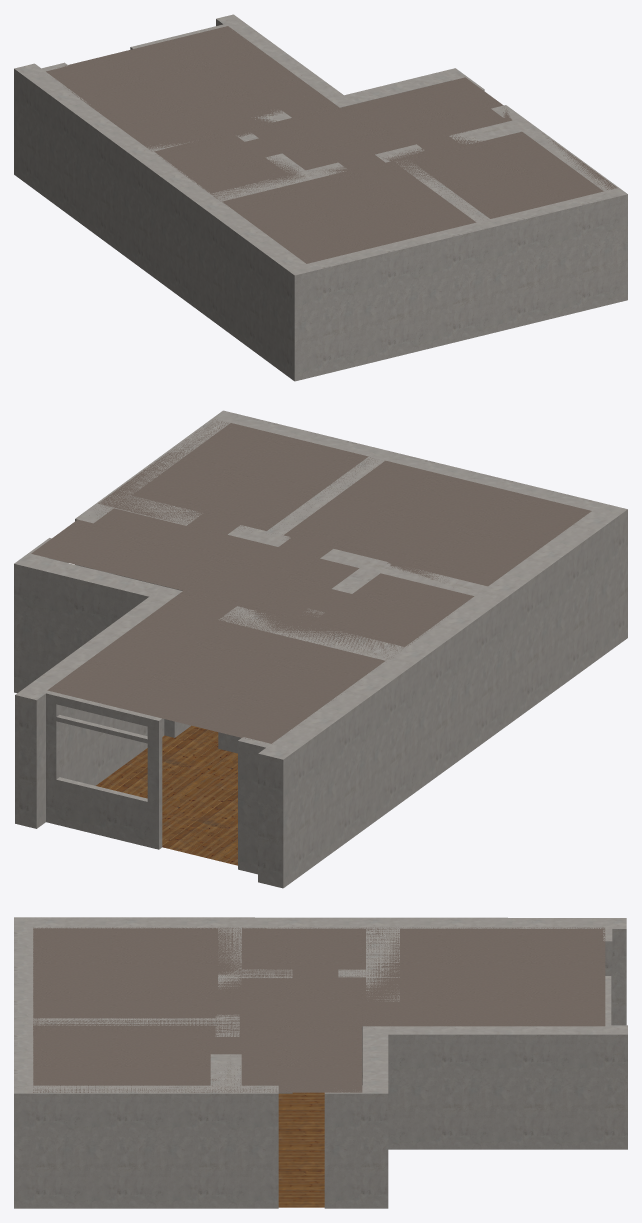
Rendered from apartment_shell.gltf.
3 views of the same model, one above another, from view 1: azimuth 30°, elevation 25°; view 2: azimuth 150°, elevation 25°; view 3: azimuth 270°, elevation 25° (orthographic). The views are drawn at different scales.
Visible parts, largest first — view 1: WestSideWalls, Ceiling, EastSideWalls; view 2: Ceiling, WestSideWalls, EastSideWalls, Floor; view 3: Ceiling, WestSideWalls, EastSideWalls, Floor.
Part boxes in pixels (<box>): WestSideWalls: <box>14,62,627,381</box>; Ceiling: <box>46,26,617,263</box>; EastSideWalls: <box>130,14,484,107</box>; Ceiling: <box>31,419,591,743</box>; WestSideWalls: <box>75,410,627,888</box>; EastSideWalls: <box>14,538,190,849</box>; Floor: <box>96,725,237,865</box>; Ceiling: <box>33,927,605,1092</box>; WestSideWalls: <box>14,917,626,1208</box>; EastSideWalls: <box>324,976,627,1208</box>; Floor: <box>278,1092,324,1207</box>.
Bounding box in the file's own units: 12.34 × 3.75 × 18.13.
Materials: 3 (3 with a texture image).
